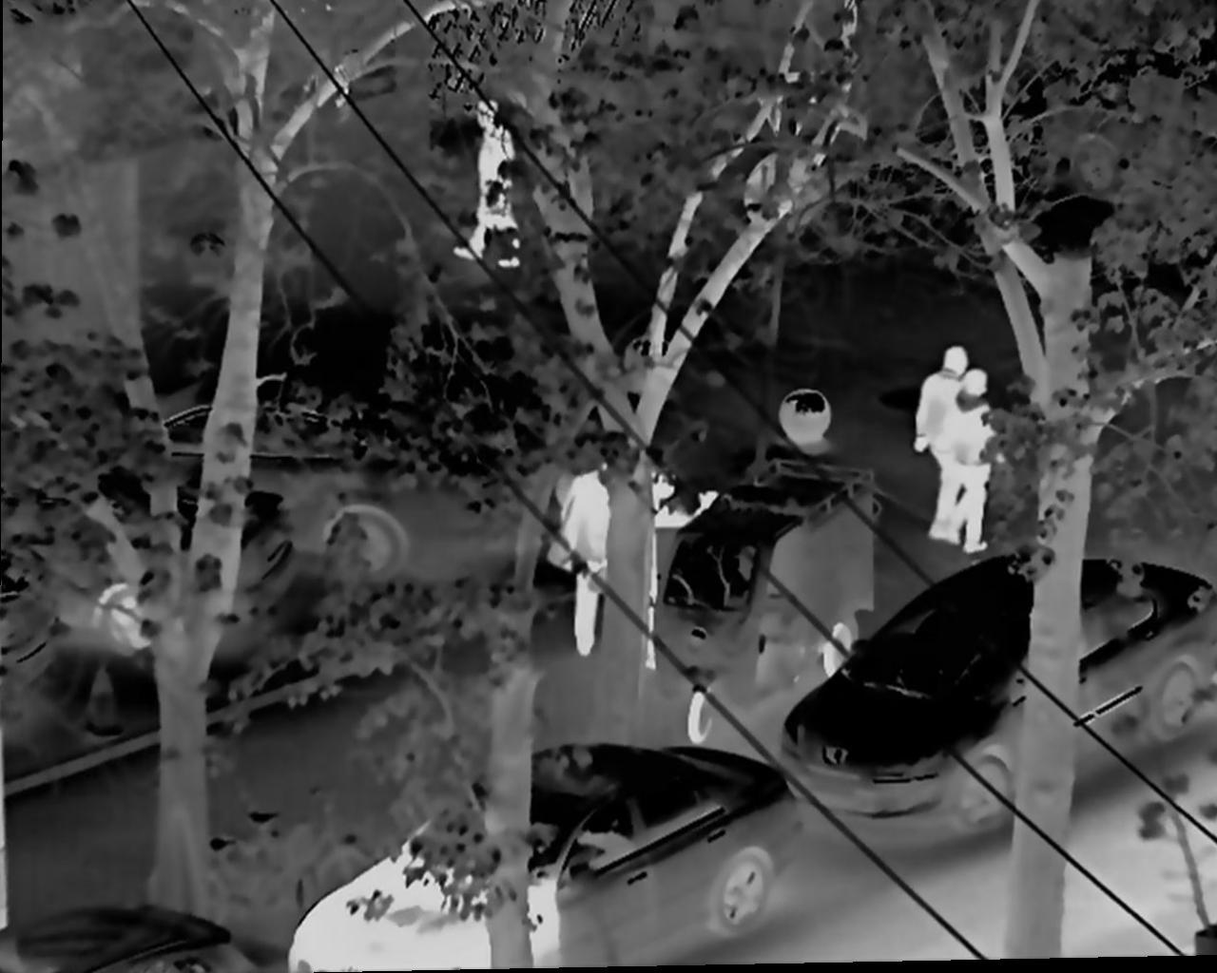person: (567, 469, 656, 674), (904, 337, 972, 553), (454, 94, 531, 275), (951, 366, 997, 548)
